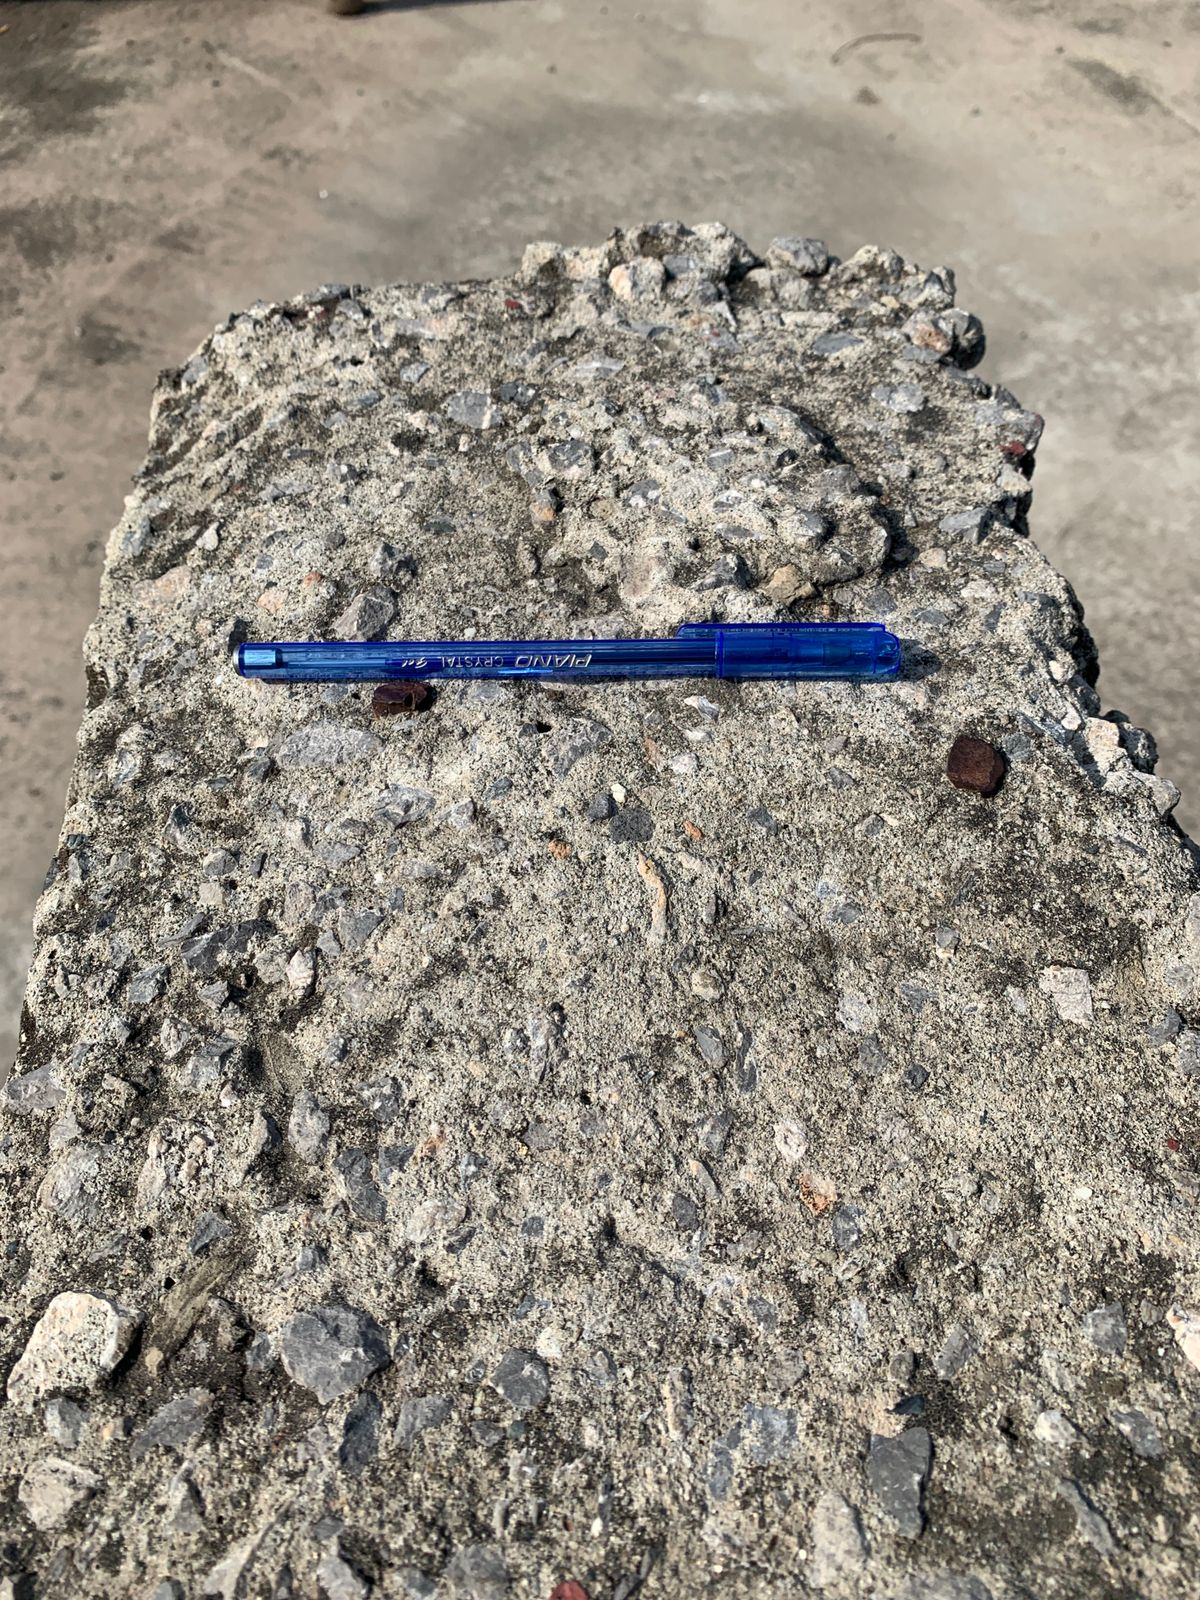pen: (144, 540, 1063, 779)
